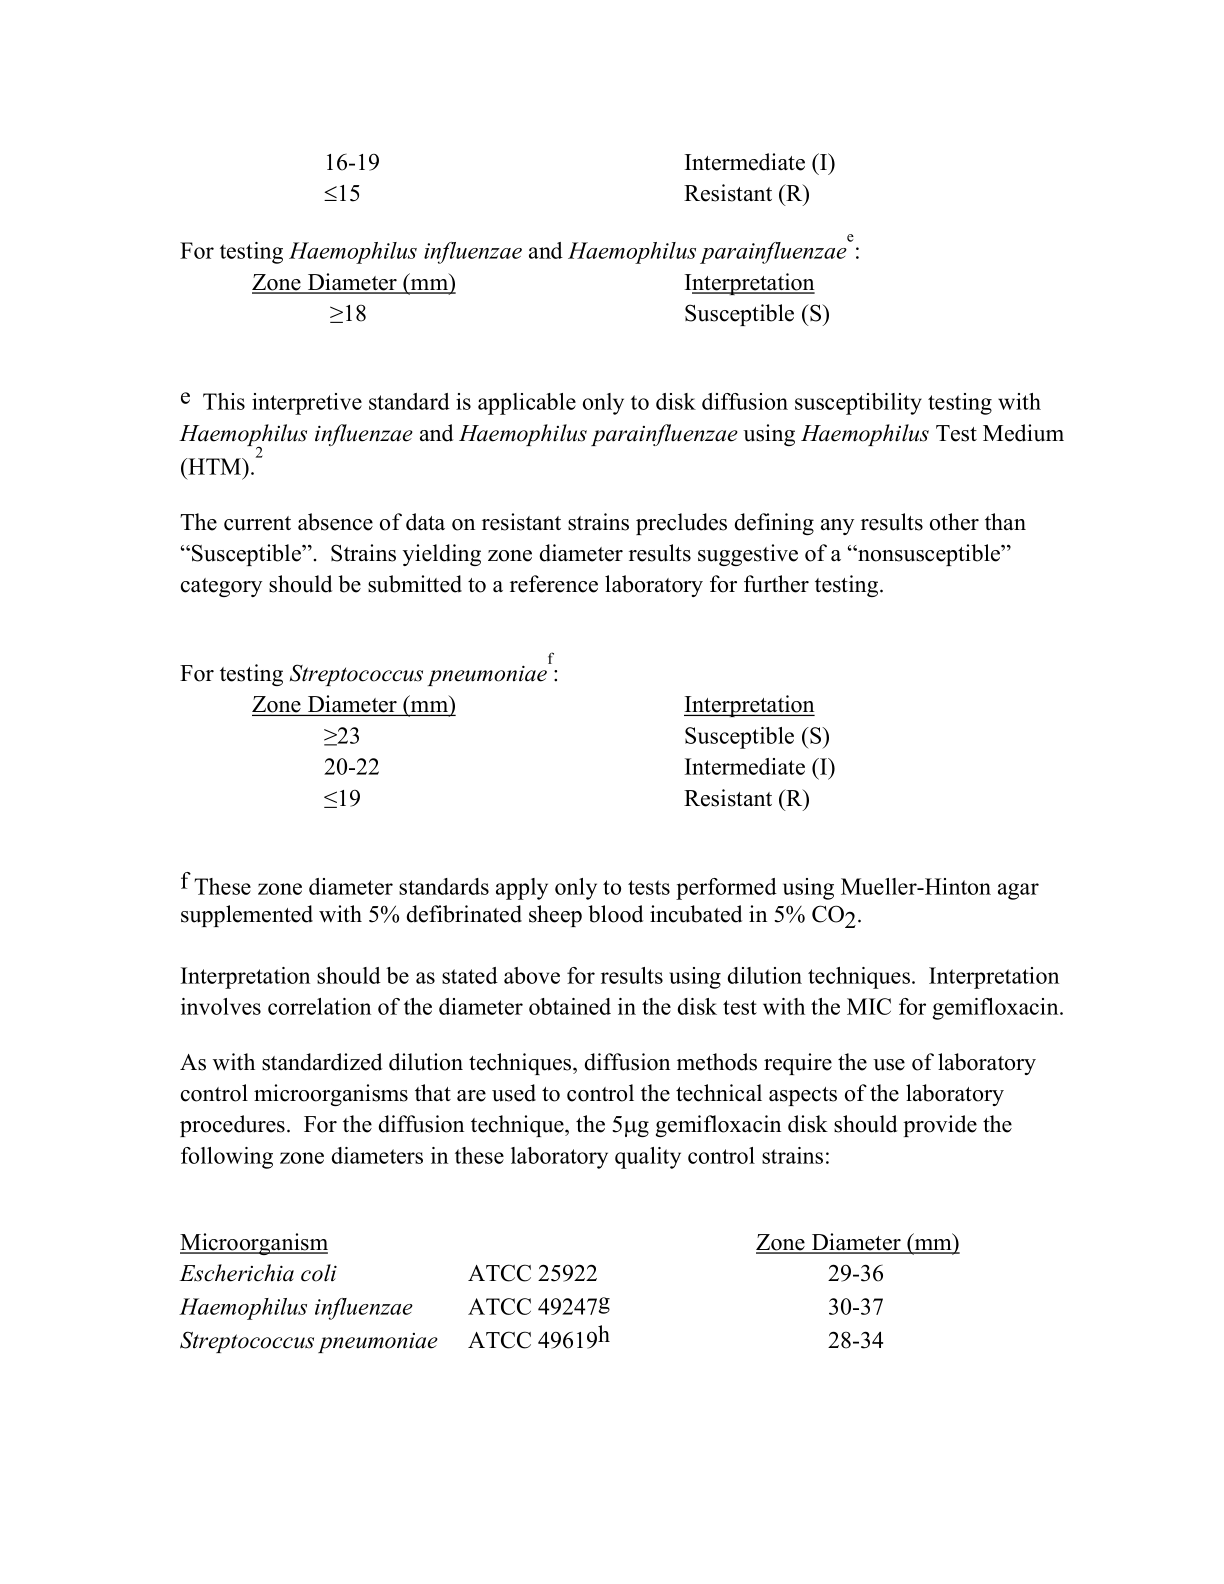nolines: (180, 1230, 962, 1350), (247, 693, 834, 809), (249, 270, 829, 327), (320, 147, 838, 204)
